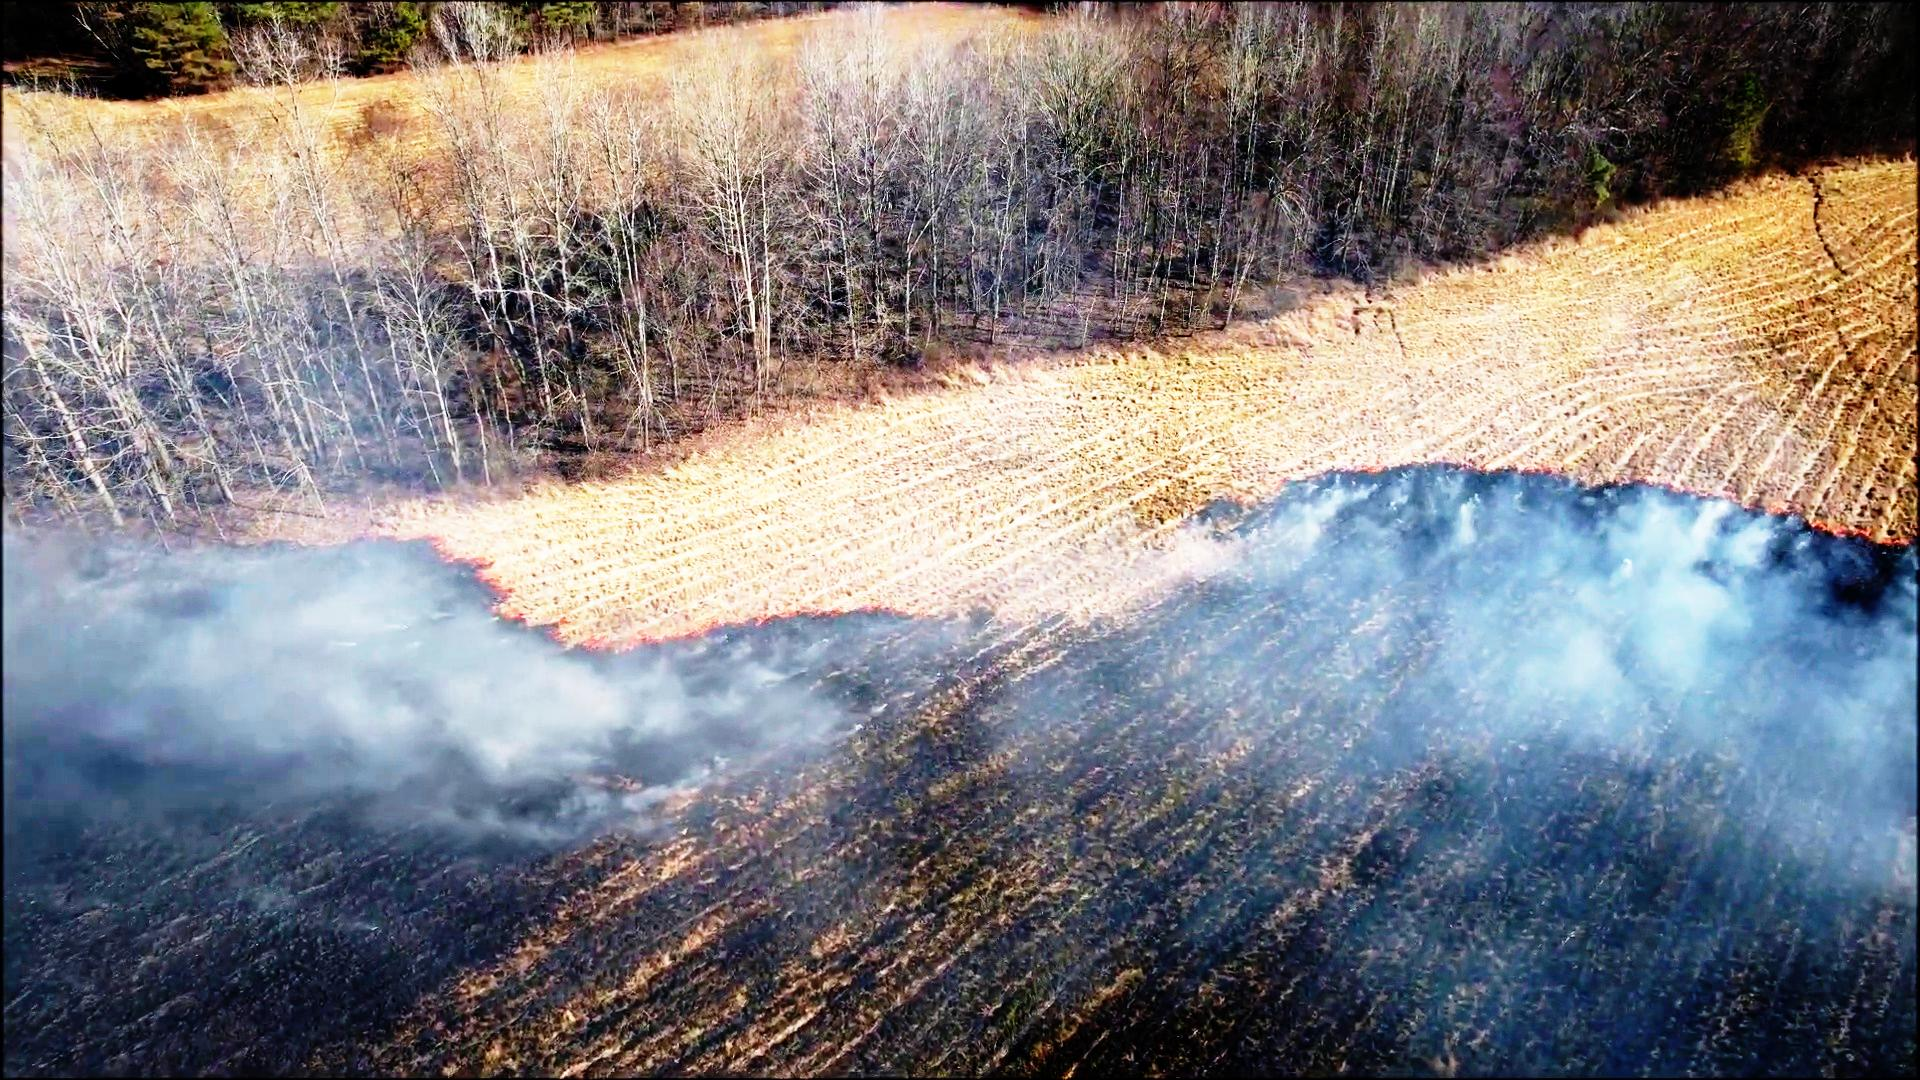smoke: (0, 505, 949, 876), (1200, 435, 1920, 920)
